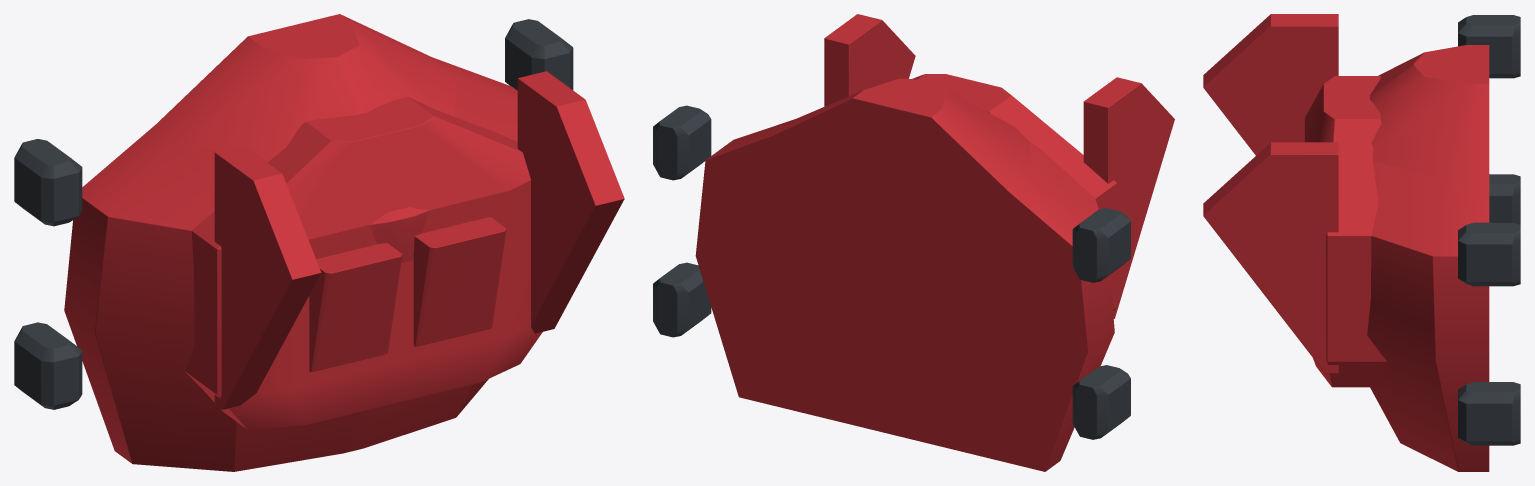
Rendered from ShoulderFront_Set05_Afterburn.fbx.
3 renders of one model, left to right at view 1: azimuth 30°, elevation 25°; view 2: azimuth 150°, elevation 25°; view 3: azimuth 270°, elevation 25°, orthographic. The views are drawn at different scales.
Parts seen in each view (by area): view 1: ShoulderFront_Set05_Afterburn; view 2: ShoulderFront_Set05_Afterburn; view 3: ShoulderFront_Set05_Afterburn.
Part boxes in pixels (x1,y1,x2,y2): ShoulderFront_Set05_Afterburn: (14, 14, 624, 471); ShoulderFront_Set05_Afterburn: (653, 14, 1174, 471); ShoulderFront_Set05_Afterburn: (1203, 14, 1520, 471).
Bounding box in the file's own units: 0.51 × 0.35 × 0.3035.
